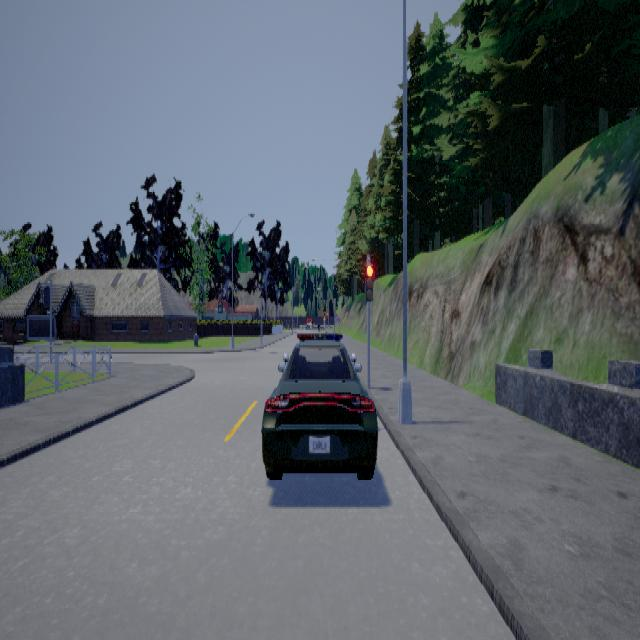red_light: (365, 256, 372, 308)
vehicle: (260, 332, 377, 478)
